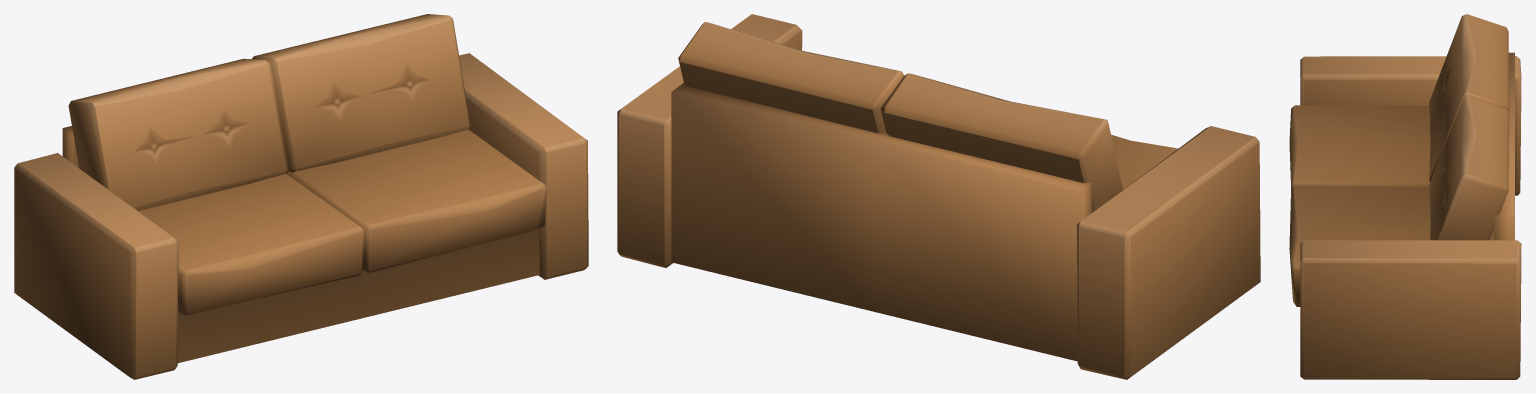
Rendered from TSP_Couch_02C.fbx.
3 renders of one model, left to right at view 1: azimuth 30°, elevation 25°; view 2: azimuth 150°, elevation 25°; view 3: azimuth 270°, elevation 25°, orthographic. The views are drawn at different scales.
Visible parts, largest first — view 1: TSP_Couch_02C; view 2: TSP_Couch_02C; view 3: TSP_Couch_02C.
Boxes of the visible parts, <box> form: TSP_Couch_02C: <box>14,14,588,379</box>; TSP_Couch_02C: <box>617,14,1260,379</box>; TSP_Couch_02C: <box>1289,14,1521,379</box>.
Bounding box in the file's own units: 2.6 × 1.09 × 1.24.
